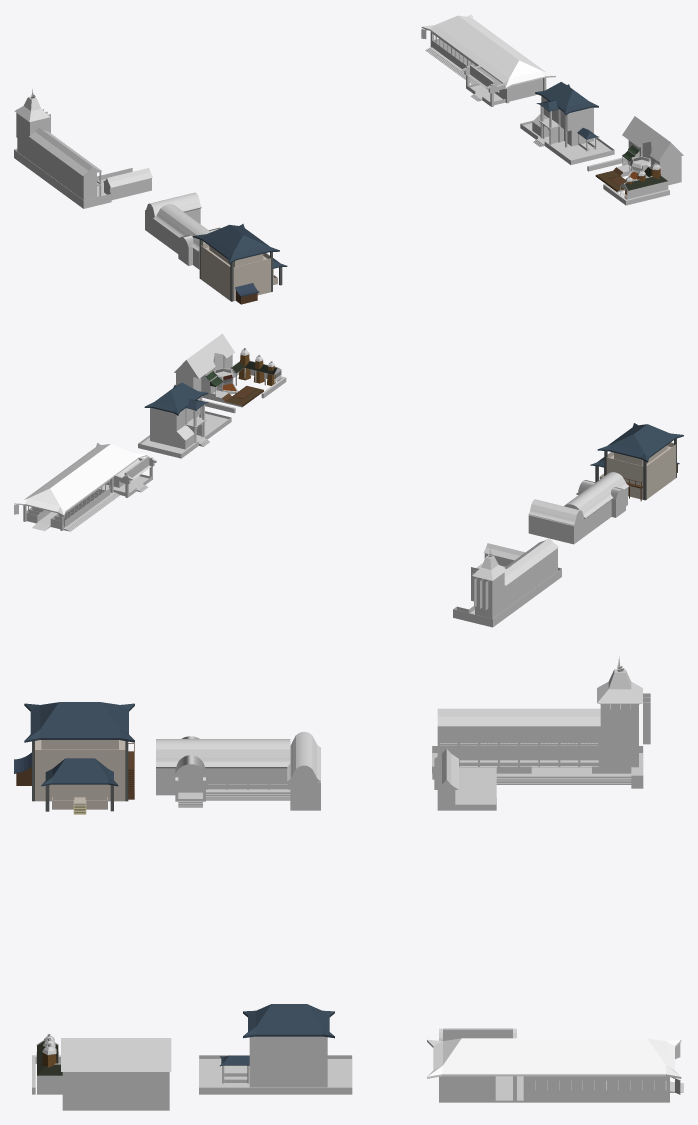
Rendered from jangan-buildings.fbx.
The picture shows the model from 3 angles, top to bottom: view 1: azimuth 30°, elevation 25°; view 2: azimuth 150°, elevation 25°; view 3: azimuth 270°, elevation 25°; orthographic projection. The views are drawn at different scales.
Parts seen in each view (by area): view 1: Group_99_1, Group45, Group23, Group_125_1, Group8, Group82, Difference1, Group_91_1, Group98, Group118, Difference, Group95 (+6 smaller); view 2: Group_99_1, Group45, Group_125_1, Group23, Group_91_1, Group8, Group82, Difference1, Difference, Group98, Group95, Group83 (+3 smaller); view 3: Group_99_1, Group45, Group_125_1, Group82, Difference1, Group_91_1, Group8, Difference, Group98, Group23, Group95, Group119 (+9 smaller).
Part boxes in pixels (x1=…): Group_99_1: x1=14, y1=89, x2=132, y2=208; Group45: x1=421, y1=14, x2=555, y2=89; Group23: x1=200, y1=243, x2=270, y2=300; Group_125_1: x1=520, y1=96, x2=614, y2=164; Group8: x1=193, y1=223, x2=279, y2=263; Group82: x1=153, y1=204, x2=220, y2=251; Difference1: x1=587, y1=140, x2=681, y2=185; Group_91_1: x1=145, y1=208, x2=200, y2=269; Group98: x1=29, y1=127, x2=101, y2=175; Group118: x1=103, y1=168, x2=152, y2=200; Difference: x1=622, y1=116, x2=683, y2=161; Group95: x1=535, y1=82, x2=598, y2=115; Group_99_1: x1=453, y1=548, x2=561, y2=627; Group45: x1=14, y1=442, x2=147, y2=516; Group_125_1: x1=138, y1=397, x2=231, y2=458; Group23: x1=606, y1=442, x2=675, y2=499; Group_91_1: x1=528, y1=488, x2=627, y2=544; Group8: x1=597, y1=423, x2=683, y2=462; Group82: x1=564, y1=472, x2=629, y2=518; Difference1: x1=176, y1=354, x2=235, y2=413; Difference: x1=174, y1=333, x2=234, y2=378; Group98: x1=504, y1=538, x2=558, y2=585; Group95: x1=144, y1=382, x2=208, y2=415; Group83: x1=528, y1=499, x2=583, y2=525; Group_99_1: x1=432, y1=656, x2=643, y2=810; Group45: x1=427, y1=1038, x2=681, y2=1078; Group_125_1: x1=199, y1=1036, x2=352, y2=1094; Group82: x1=156, y1=736, x2=290, y2=773; Difference1: x1=62, y1=1072, x2=169, y2=1110; Group_91_1: x1=156, y1=768, x2=320, y2=810; Group8: x1=24, y1=702, x2=134, y2=742; Difference: x1=61, y1=1038, x2=171, y2=1071; Group98: x1=437, y1=708, x2=600, y2=726; Group23: x1=35, y1=740, x2=125, y2=801; Group95: x1=243, y1=1004, x2=334, y2=1038; Group119: x1=496, y1=773, x2=631, y2=784.
Bounding box in the file's own units: 109 × 15.91 × 87.49.
